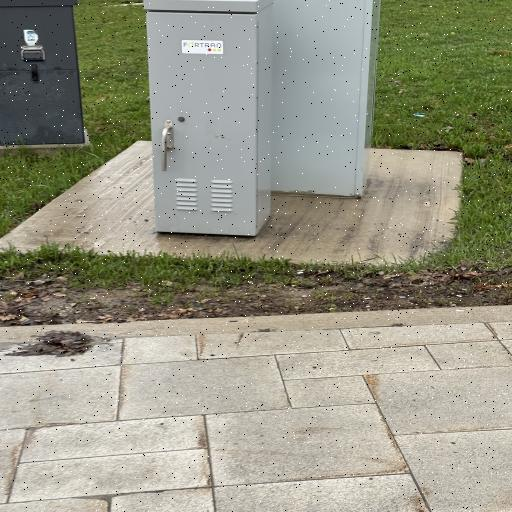Electrical Box: (142, 0, 389, 241), (0, 0, 92, 144)
